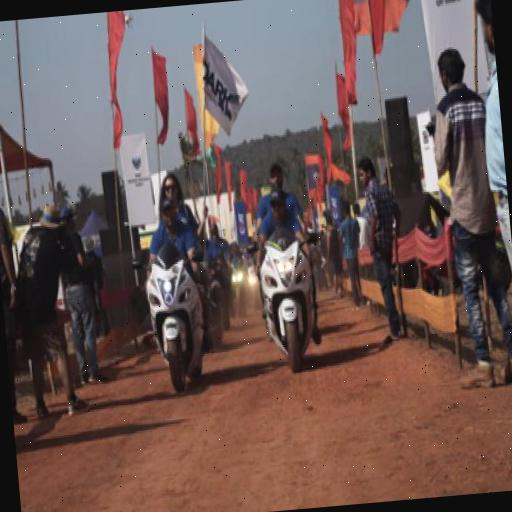no helmet: (130, 184, 212, 396), (247, 176, 332, 380)
